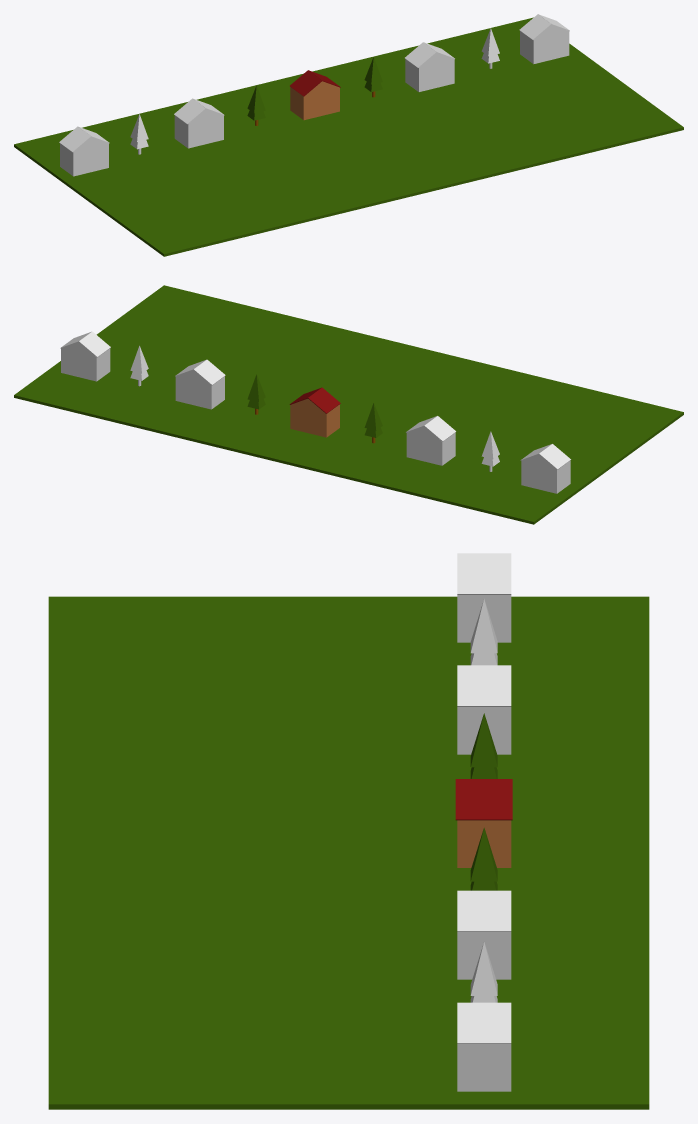
The picture shows the model from 3 angles, top to bottom: view 1: azimuth 30°, elevation 25°; view 2: azimuth 150°, elevation 25°; view 3: azimuth 270°, elevation 25°; orthographic projection. The views are drawn at different scales.
Visible parts, largest first — view 1: ground, front (×4), roof-left (×4), theFront, left; view 2: ground, back (×5), roof-left (×4), left; view 3: ground, right (×6), roof-right (×4), Pyramid.1 (×4).
Boxes of the visible parts, box(x1,y1,x2,y2) form: ground: box(14, 17, 683, 256); front (×4): box(73, 25, 568, 175); roof-left (×4): box(59, 14, 551, 152); theFront: box(304, 81, 339, 119); left: box(290, 70, 322, 96); ground: box(14, 285, 683, 524); back (×5): box(61, 342, 556, 493); roof-left (×4): box(79, 331, 570, 469); left: box(308, 387, 340, 413); ground: box(48, 596, 649, 1109); right (×6): box(455, 594, 512, 1091); roof-right (×4): box(457, 553, 511, 1043); Pyramid.1 (×4): box(470, 599, 497, 995).
Size of the model in its own units: 4440 by 360 by 2220.
